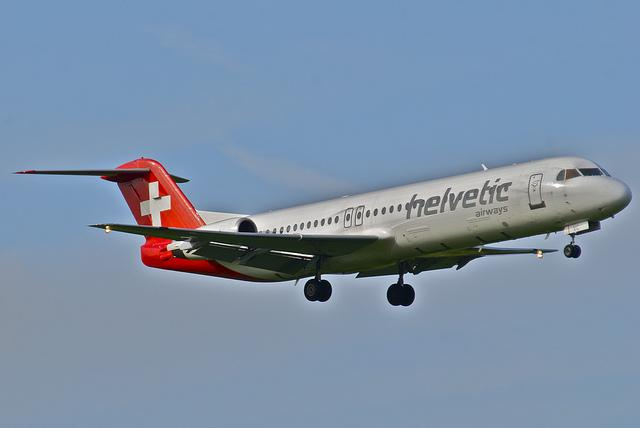airplane: (12, 154, 633, 308)
